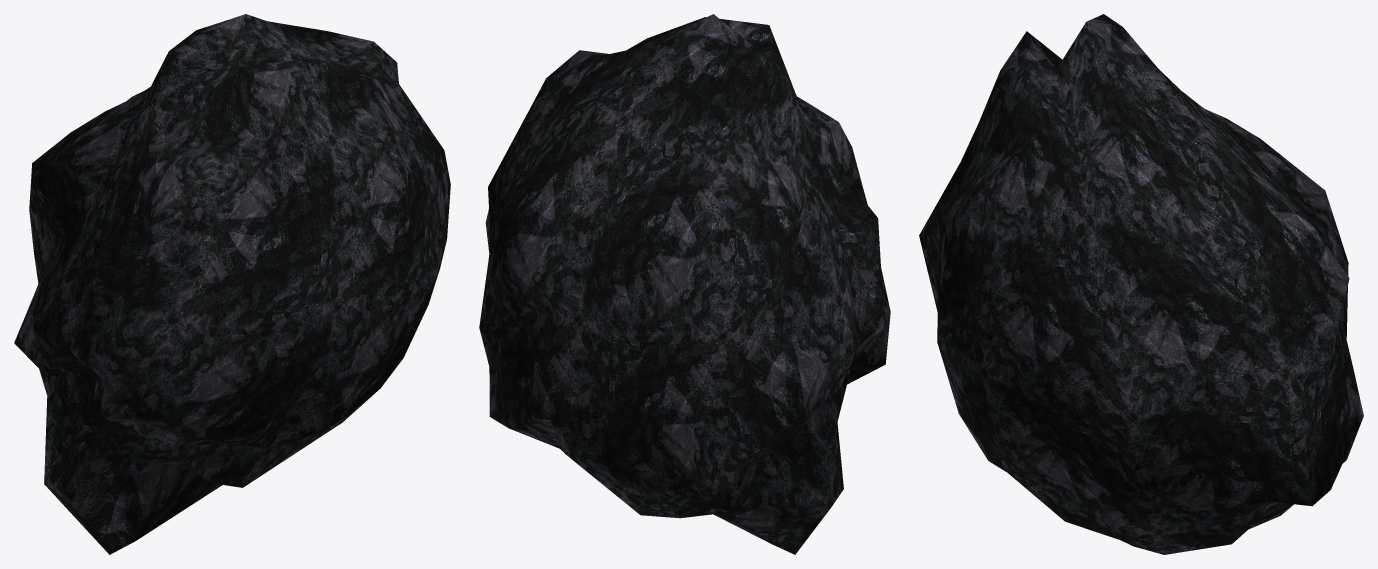
File: asteroid_obsidian_large_s02_l1.fbx
3 views of the same model, side by side, from view 1: azimuth 30°, elevation 25°; view 2: azimuth 150°, elevation 25°; view 3: azimuth 270°, elevation 25° (orthographic). The views are drawn at different scales.
Visible parts, largest first — view 1: mesh_node; view 2: mesh_node; view 3: mesh_node.
Part boxes in pixels (<box>): mesh_node: <box>14,14,450,554</box>; mesh_node: <box>479,14,890,554</box>; mesh_node: <box>919,14,1363,554</box>.
Bounding box in the file's own units: 114 × 144 × 102.
